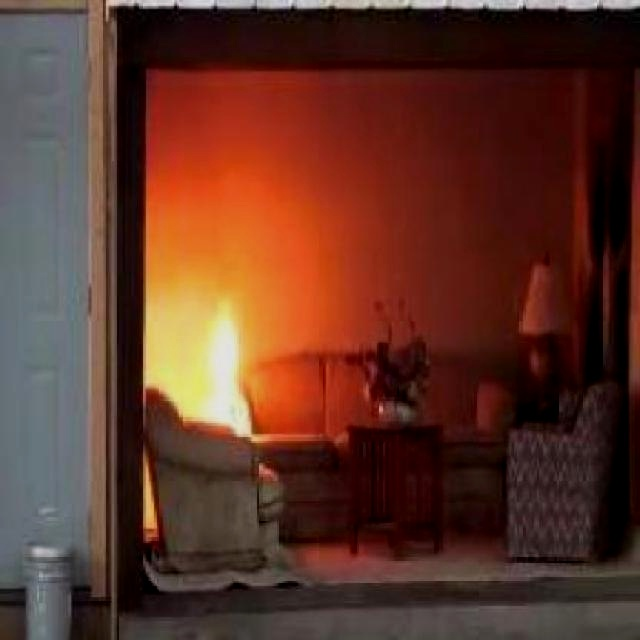fire: (190, 281, 265, 436)
